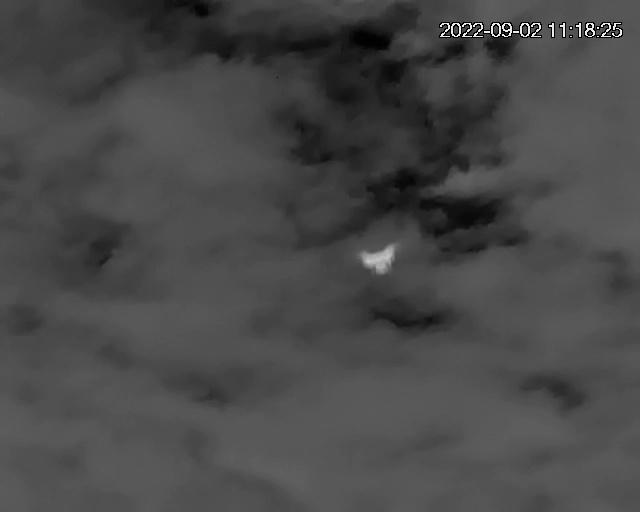DJI-Phantom: (357, 244, 404, 278)
